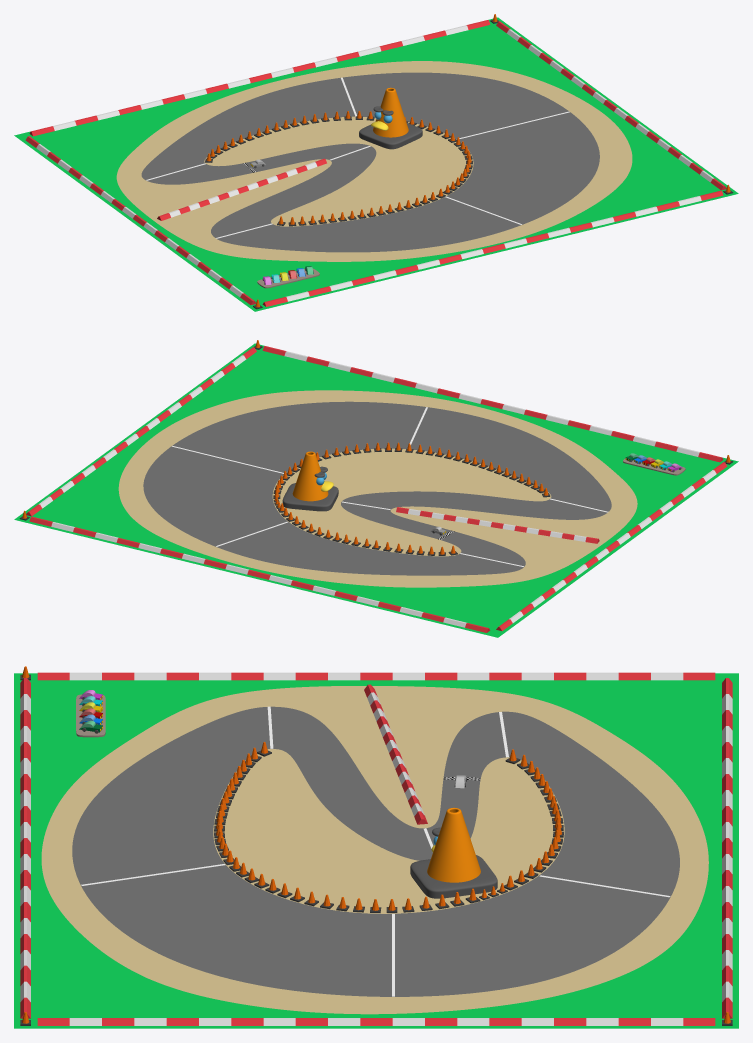
File: Track009.fbx
3 views of the same model, one above another, from view 1: azimuth 30°, elevation 25°; view 2: azimuth 150°, elevation 25°; view 3: azimuth 270°, elevation 25° (orthographic). The views are drawn at different scales.
Parts seen in each view (by area): view 1: Road, Gravel, Grass, Barrier.001, Barrier.006, Barrier.007, Barrier.008, Barrier.009, BigConeTop, BigConeBase; view 2: Road, Gravel, Grass, Barrier.001, Barrier.006, Barrier.007, Barrier.008, Barrier.009, BigConeTop, BigConeBase; view 3: Road, Gravel, Grass, Barrier.008, Barrier.007, Barrier.001, Barrier.006, BigConeTop, BigConeBase, Barrier.009.
Boxes of the visible parts, x1,y1,x2,y2 form: Road: (141, 72, 599, 252); Gravel: (116, 61, 632, 261); Grass: (14, 17, 738, 311); Barrier.001: (29, 20, 490, 136); Barrier.006: (262, 190, 723, 306); Barrier.007: (496, 21, 726, 190); Barrier.008: (25, 136, 256, 304); Barrier.009: (157, 158, 326, 220); BigConeTop: (373, 87, 408, 137); BigConeBase: (359, 123, 422, 149); Road: (143, 401, 611, 575); Gravel: (118, 390, 637, 587); Grass: (14, 343, 738, 637); Barrier.001: (29, 516, 490, 632); Barrier.006: (262, 346, 723, 462); Barrier.007: (26, 347, 256, 516); Barrier.008: (496, 462, 727, 630); Barrier.009: (396, 507, 599, 543); BigConeTop: (292, 451, 328, 501); BigConeBase: (282, 483, 338, 511); Road: (72, 706, 679, 996); Gravel: (41, 686, 708, 1014); Grass: (14, 673, 738, 1028); Barrier.008: (37, 672, 715, 680); Barrier.007: (37, 1018, 715, 1025); Barrier.001: (722, 678, 732, 1018); Barrier.006: (20, 678, 30, 1018); BigConeTop: (427, 807, 480, 882); BigConeBase: (410, 855, 497, 898); Barrier.009: (364, 684, 427, 824).
Bounding box in the file's own units: 230 × 198 × 21.03.
